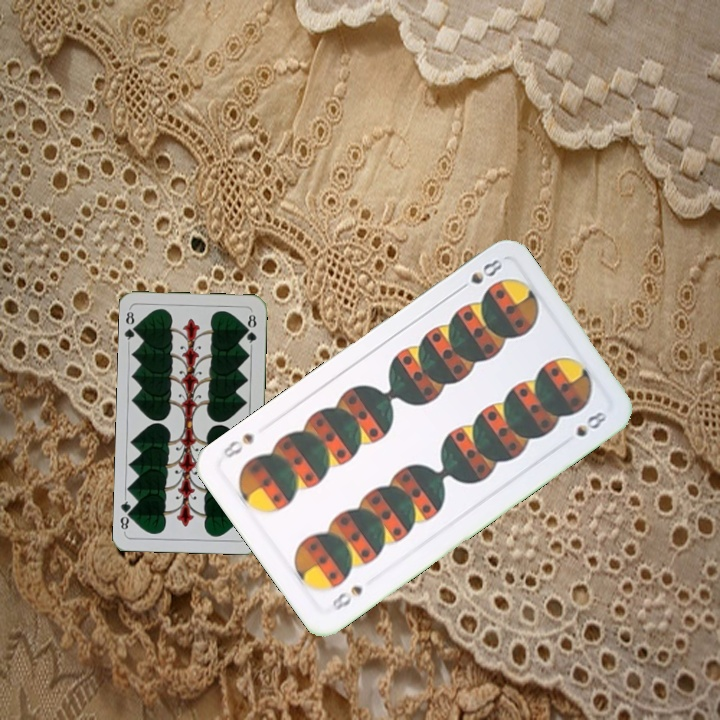G8: (121, 306, 141, 346)
S8: (453, 254, 506, 295), (328, 581, 366, 614)
